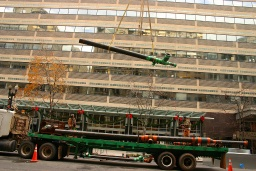truck: (1, 97, 250, 171)
